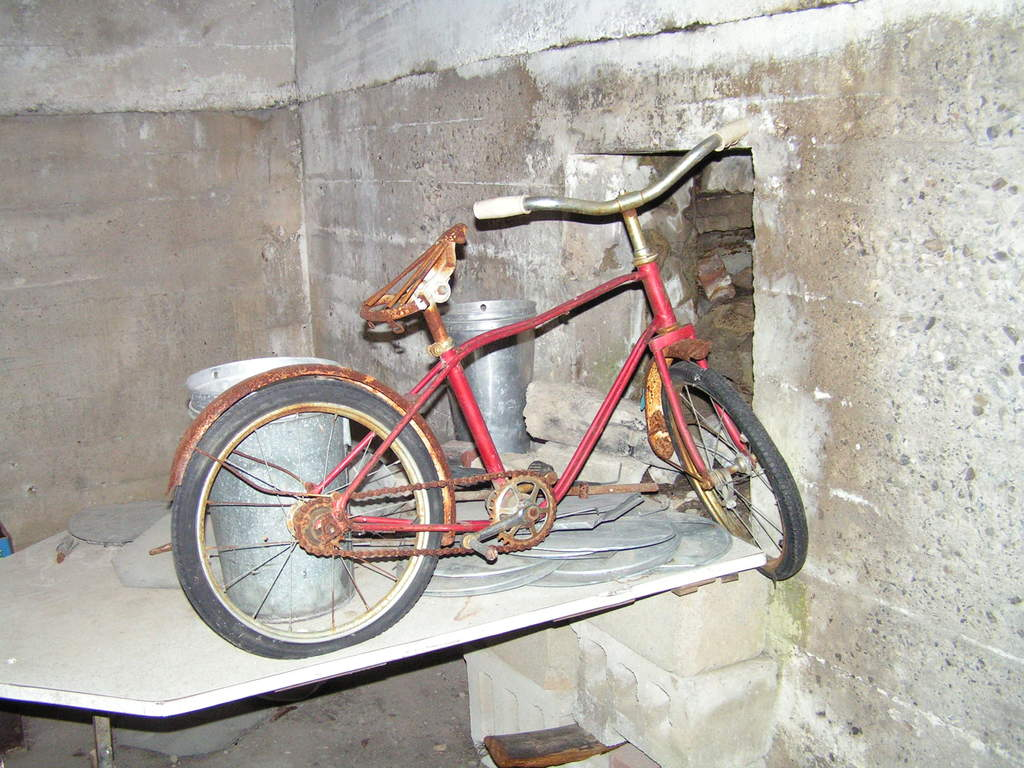Bike: (189, 176, 795, 597)
